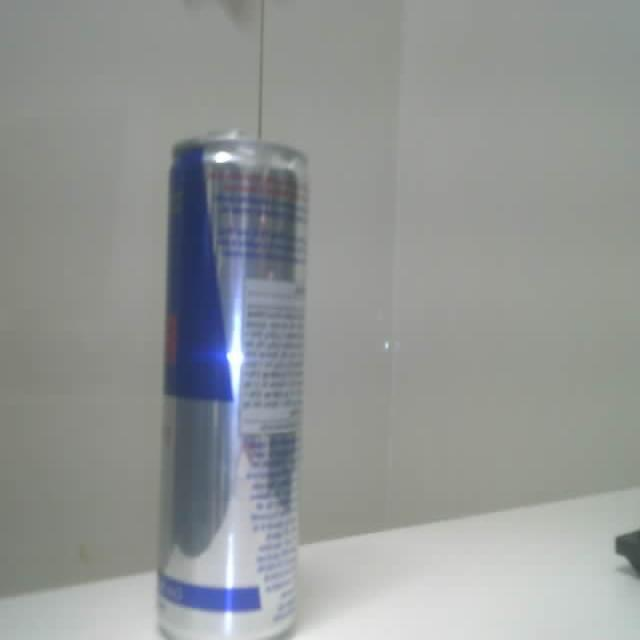redbull can: (158, 134, 306, 639)
